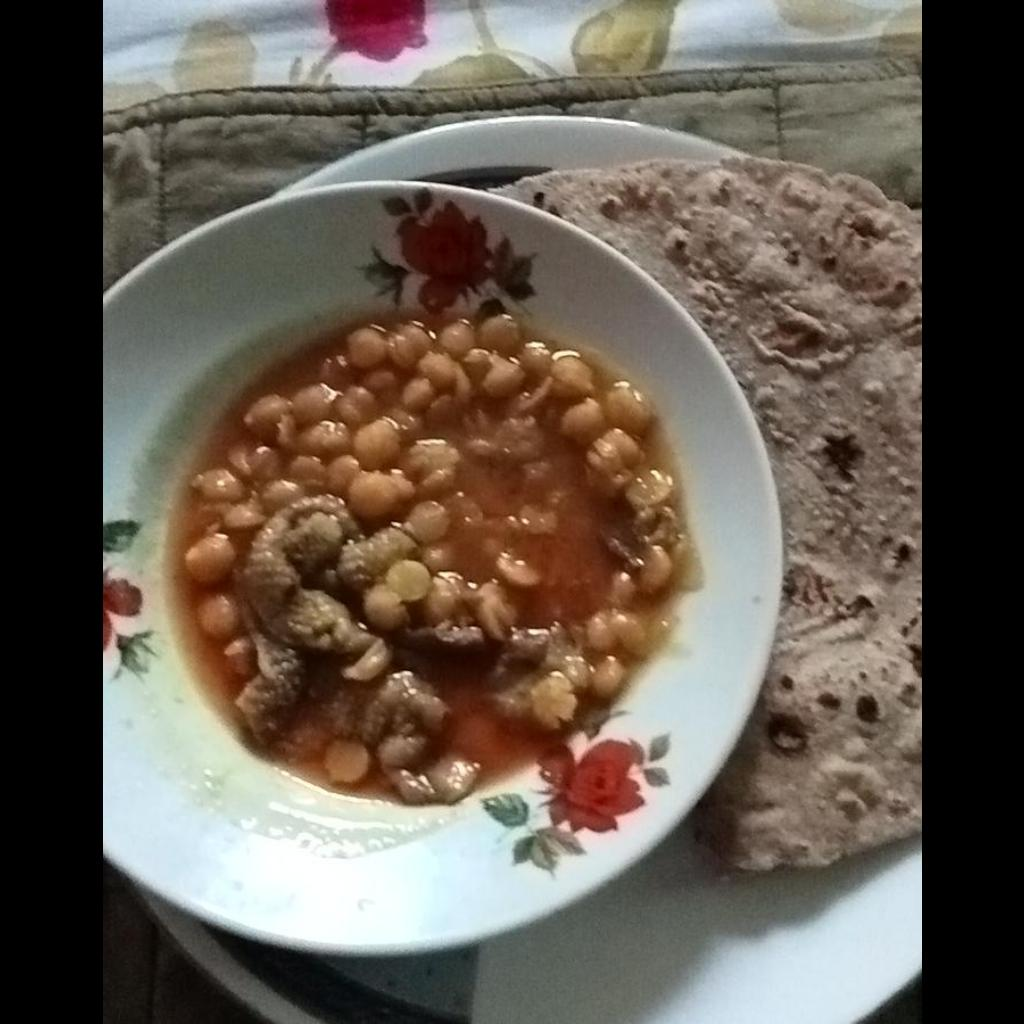daal: (184, 318, 677, 801)
ruti: (487, 158, 918, 869)
